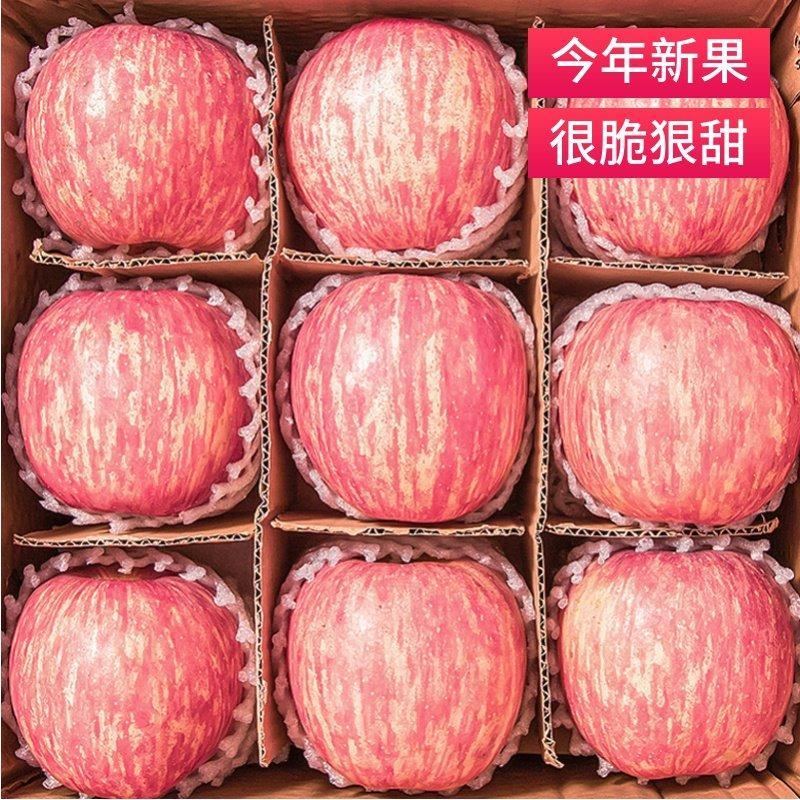apple: (280, 276, 524, 528), (280, 546, 528, 790), (553, 286, 798, 521), (555, 547, 797, 781), (17, 284, 254, 521), (8, 567, 245, 800), (27, 22, 264, 249), (291, 12, 515, 252)
